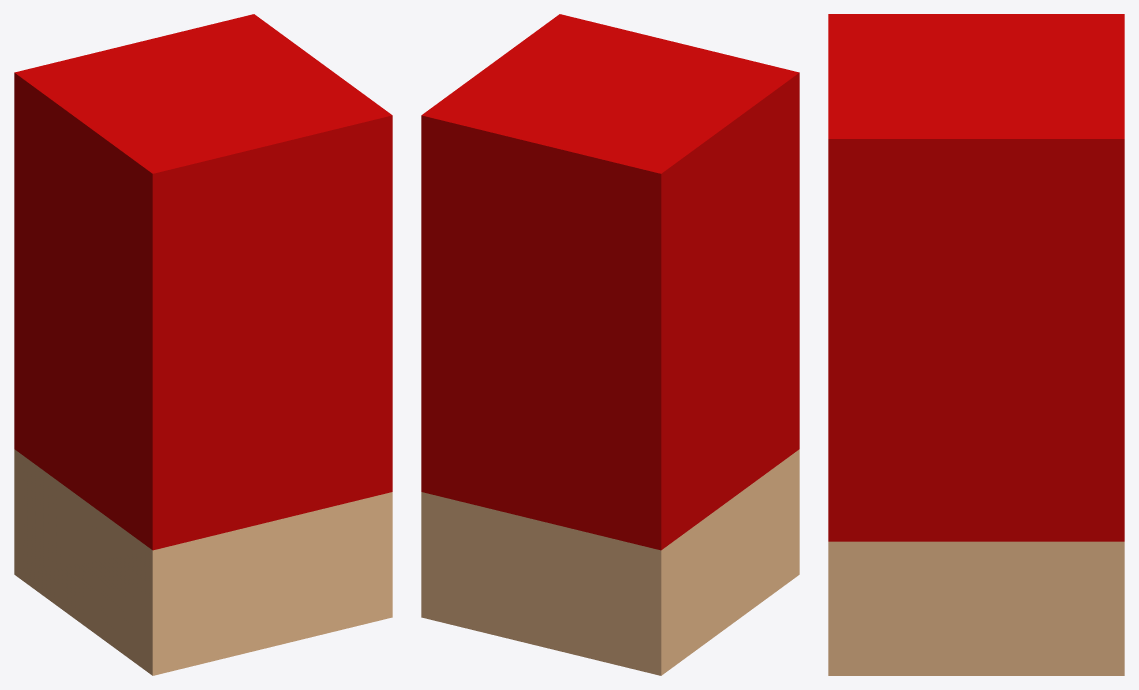
The model's file is leg7.obj.
The picture shows the model from 3 angles, left to right: view 1: azimuth 30°, elevation 25°; view 2: azimuth 150°, elevation 25°; view 3: azimuth 270°, elevation 25°; orthographic projection. The views are drawn at different scales.
Size of the model in its own units: 0.2 by 0.4 by 0.2.
1 material, 1 textured.
